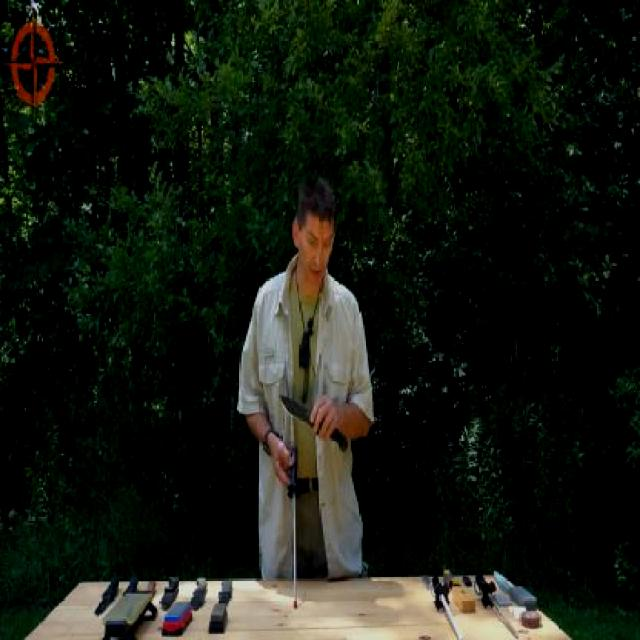knife: (277, 391, 352, 454)
